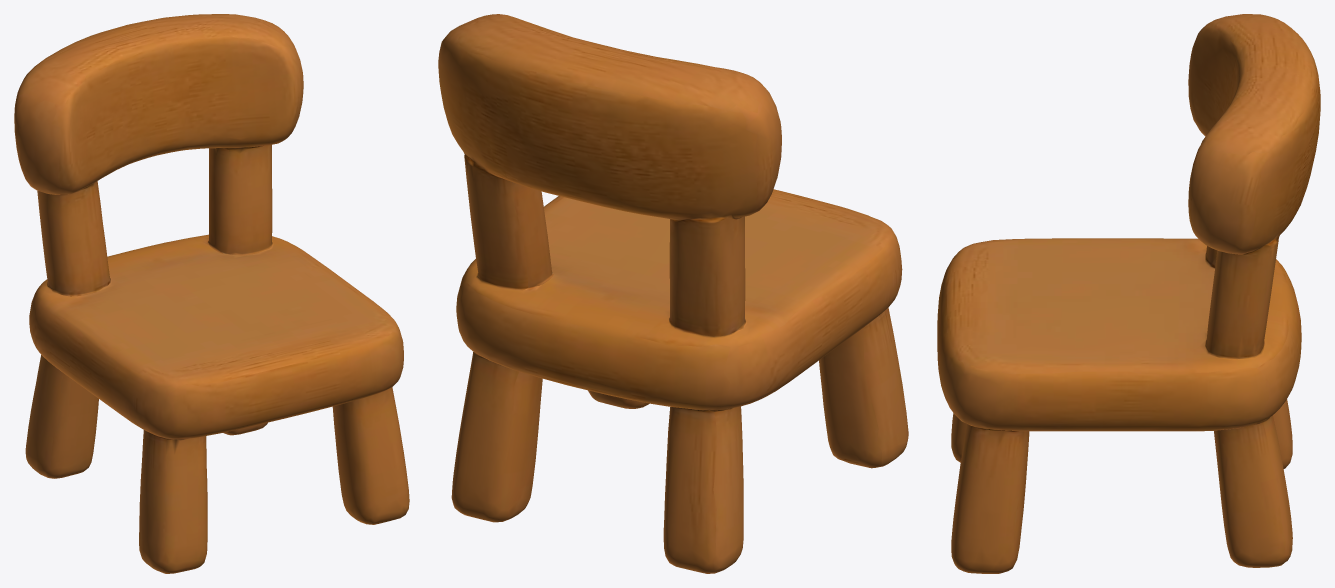
File: chair_basic.glb
The picture shows the model from 3 angles, left to right: view 1: azimuth 30°, elevation 25°; view 2: azimuth 150°, elevation 25°; view 3: azimuth 270°, elevation 25°; orthographic projection. The views are drawn at different scales.
Visible parts, largest first — view 1: textured_mesh.obj; view 2: textured_mesh.obj; view 3: textured_mesh.obj.
Part boxes in pixels (x1,y1,x2,y2): textured_mesh.obj: (14,14,409,573); textured_mesh.obj: (438,14,908,573); textured_mesh.obj: (937,14,1320,573).
Size of what is drawn, in the model's own units: 0.7048 by 1 by 0.7715.
1 material, 1 textured.
